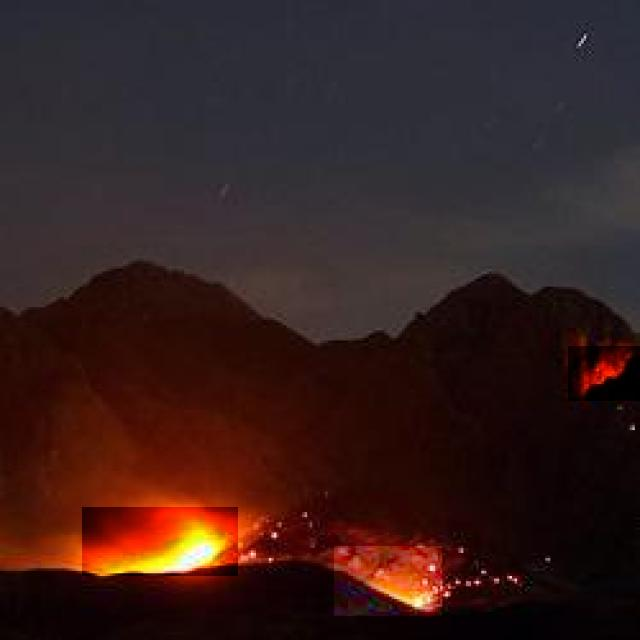Fire: (82, 507, 238, 576), (334, 546, 442, 616), (568, 346, 640, 401)
